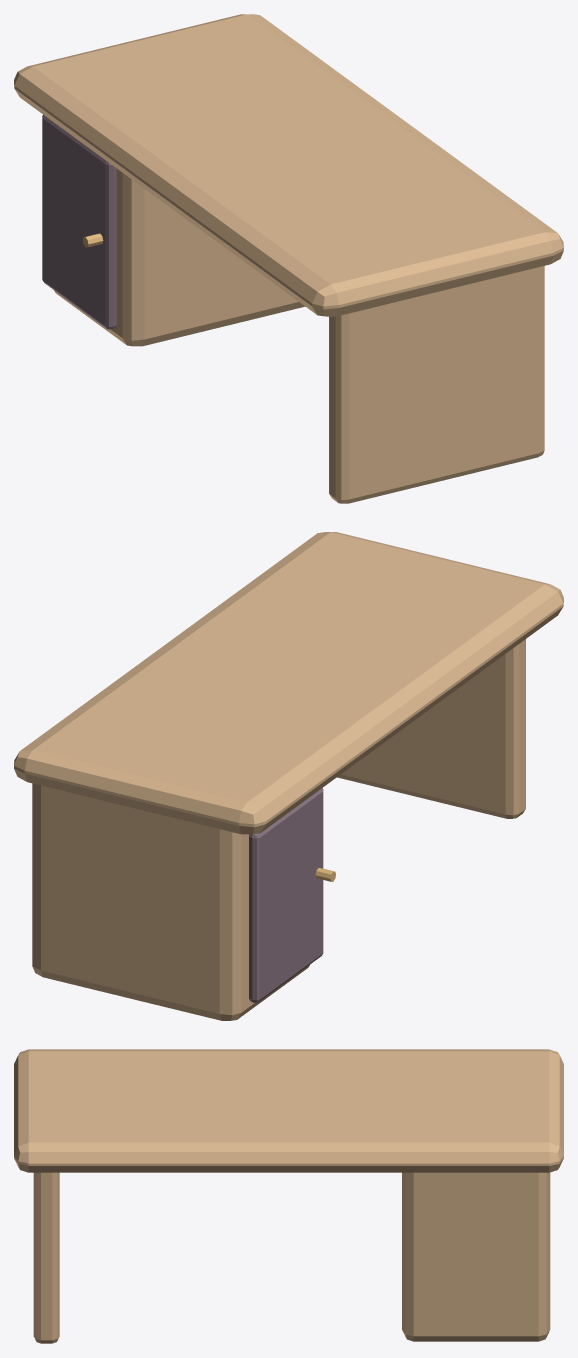
Rendered from mesa.fbx.
The picture shows the model from 3 angles, top to bottom: view 1: azimuth 30°, elevation 25°; view 2: azimuth 150°, elevation 25°; view 3: azimuth 270°, elevation 25°; orthographic projection. The views are drawn at different scales.
Parts seen in each view (by area): view 1: Desk.001, Desk_RightPanel.001, Desk_LeftCabinet.001, Desk_LeftCabinet_Door.001; view 2: Desk.001, Desk_LeftCabinet.001, Desk_RightPanel.001, Desk_LeftCabinet_Door.001; view 3: Desk.001, Desk_LeftCabinet.001, Desk_RightPanel.001.
Part boxes in pixels (<box>): Desk.001: <box>14,14,563,316</box>; Desk_RightPanel.001: <box>329,266,544,503</box>; Desk_LeftCabinet.001: <box>54,169,304,346</box>; Desk_LeftCabinet_Door.001: <box>42,114,116,329</box>; Desk.001: <box>14,532,563,834</box>; Desk_LeftCabinet.001: <box>32,783,309,1020</box>; Desk_RightPanel.001: <box>337,639,525,818</box>; Desk_LeftCabinet_Door.001: <box>249,788,323,1002</box>; Desk.001: <box>14,1049,563,1172</box>; Desk_LeftCabinet.001: <box>402,1172,550,1341</box>; Desk_RightPanel.001: <box>33,1172,59,1343</box>.
Bounding box in the file's own units: 135 × 118 × 292.
